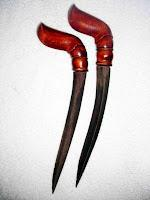espada: (39, 24, 87, 192), (69, 5, 112, 186)
